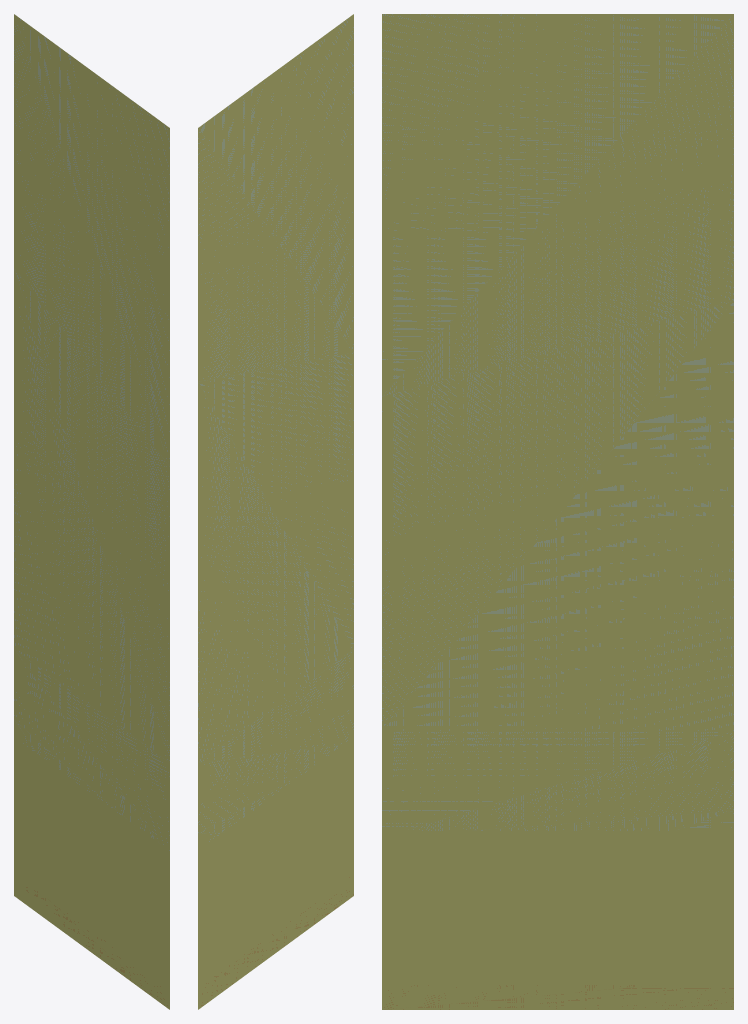
3 views of the same model, side by side, from view 1: azimuth 30°, elevation 25°; view 2: azimuth 150°, elevation 25°; view 3: azimuth 270°, elevation 25° (orthographic). The views are drawn at different scales.
Bounding box in the file's own units: 0 × 3.12 × 1.
1 material, 1 textured.
